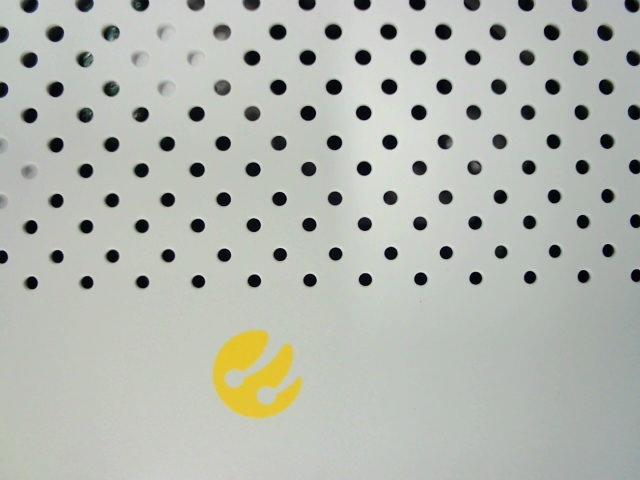AV_H3600Yellow: (187, 313, 320, 427)
